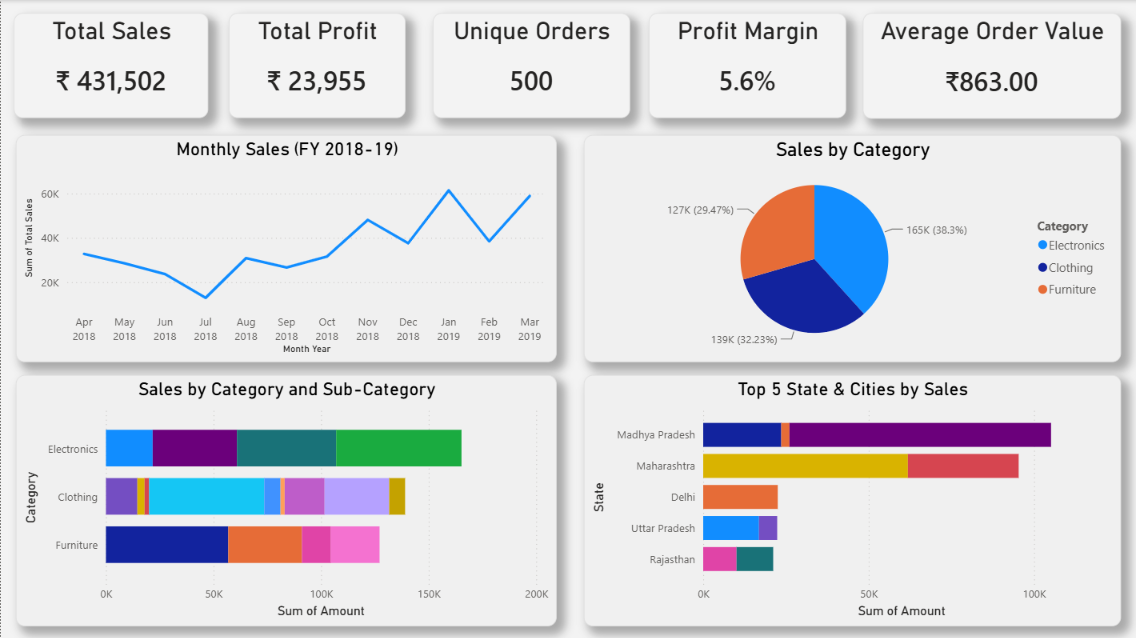

This screenshot's page, from the dashboard's own definition file:
{"tool":"powerbi","page":{"name":"Sales & Profitability Overview","canvas":[1280,720],"ordinal":0},"visuals":[{"type":"cardVisual","title":"Total Sales","fields":{"Data":["Order_Details.Total Sales"]},"box":[15.1,15.1,219.6,118],"z":0},{"type":"cardVisual","title":"Total Profit","fields":{"Data":["Order_Details.Total Profit"]},"box":[256.6,15.1,199,118],"z":1000},{"type":"cardVisual","title":"Unique Orders","fields":{"Data":["Order_Details.Total Customers"]},"box":[487.1,15.1,222.3,118],"z":2000},{"type":"cardVisual","title":"Profit Margin","fields":{"Data":["Order_Details.Profit Margin"]},"box":[730,15.1,222.3,118],"z":3000},{"type":"cardVisual","title":"Average Order Value","fields":{"Data":["Order_Details.AOV"]},"box":[972,14.9,291,118.9],"z":4000},{"type":"lineChart","title":"Monthly Sales (FY 2018-19)","fields":{"Category":["Monthly Sales.Month Year"],"Y":["Sum(Monthly Sales.Total Sales)"]},"box":[16.9,152.2,609.8,255.9],"z":5000},{"type":"pieChart","title":"Sales by Category","fields":{"Category":["Order_Details.Category"],"Y":["Sum(Order_Details.Amount)"]},"box":[657.1,152.2,605.3,255.9],"z":6000},{"type":"barChart","title":"Sales by Category and Sub-Category","fields":{"Category":["Order_Details.Category"],"Series":["Order_Details.Sub-Category"],"Y":["Sum(Order_Details.Amount)"]},"box":[16.9,422.7,609.8,282.9],"z":7000},{"type":"barChart","title":"Top 5 State & Cities by Sales","fields":{"Y":["Sum(Order_Details.Amount)"],"Category":["List_of_Orders.State"],"Series":["List_of_Orders.City"]},"box":[657.1,422.7,605.3,282.9],"z":8000}]}

Visuals, with their boxes in screenshot pixels (x1, y1, x2, y2), scaled from the page's 1280x720 canvas onto the 1137x638 screenshot:
"Total Sales" cardVisual: 13 13 208 118
"Total Profit" cardVisual: 228 13 405 118
"Unique Orders" cardVisual: 433 13 630 118
"Profit Margin" cardVisual: 648 13 846 118
"Average Order Value" cardVisual: 863 13 1122 119
"Monthly Sales (FY 2018-19)" lineChart: 15 135 557 362
"Sales by Category" pieChart: 584 135 1121 362
"Sales by Category and Sub-Category" barChart: 15 375 557 625
"Top 5 State & Cities by Sales" barChart: 584 375 1121 625
